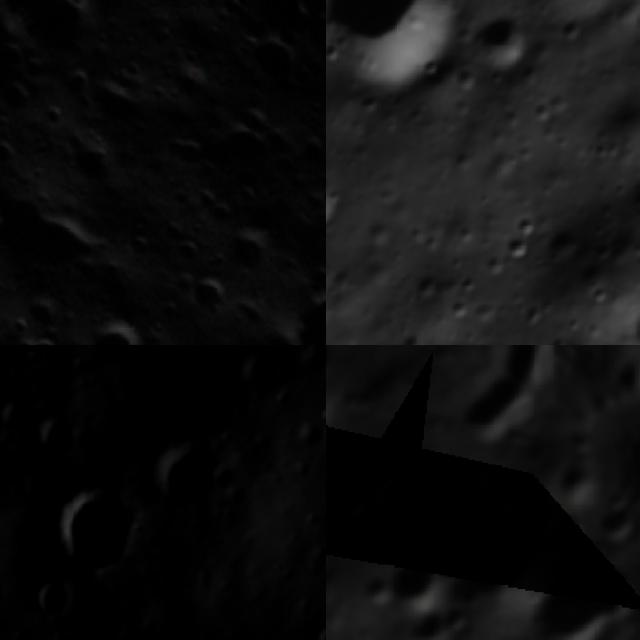crater: (326, 0, 492, 117), (442, 359, 552, 467), (522, 547, 640, 640), (14, 0, 120, 79), (50, 483, 131, 569), (464, 3, 546, 85), (381, 540, 459, 612), (150, 439, 217, 519), (246, 33, 311, 99), (510, 0, 628, 33), (326, 153, 361, 249), (225, 216, 282, 273), (186, 262, 242, 316), (83, 309, 156, 345), (294, 0, 326, 82), (18, 287, 67, 336), (587, 502, 634, 550), (331, 477, 375, 526), (493, 228, 538, 274), (368, 451, 412, 496), (31, 414, 82, 451), (33, 580, 77, 620), (240, 352, 281, 392), (438, 595, 477, 635), (245, 426, 279, 460), (1, 396, 32, 432), (291, 422, 326, 449), (0, 199, 15, 253), (67, 354, 95, 374), (24, 332, 64, 345), (314, 627, 326, 640)
